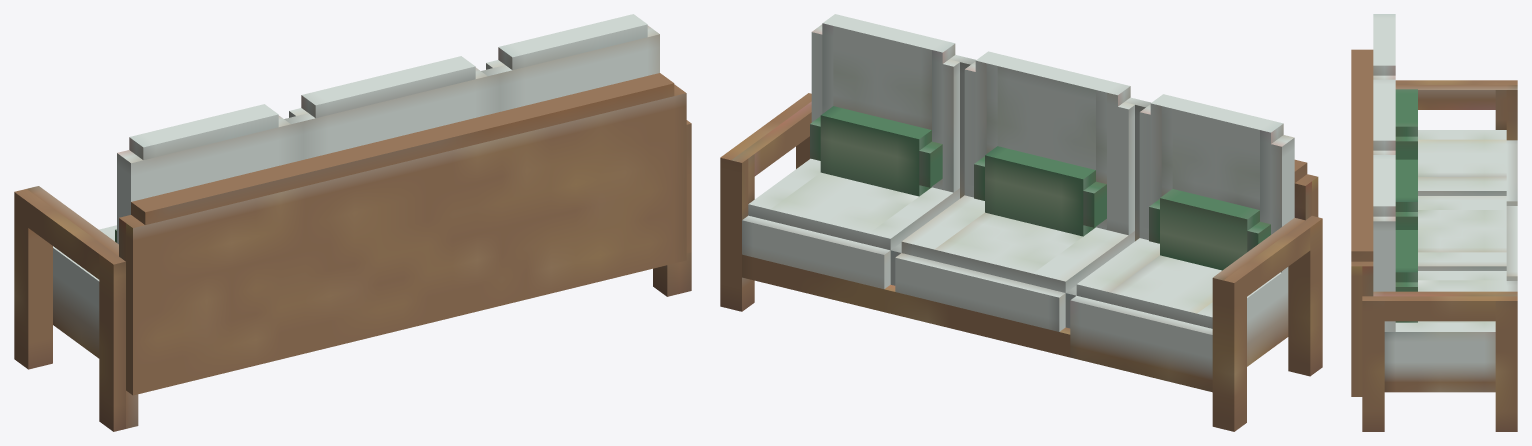
File: ChairWhiteWithGreenPillowWider_00.obj
3 renders of one model, left to right at view 1: azimuth 30°, elevation 25°; view 2: azimuth 150°, elevation 25°; view 3: azimuth 270°, elevation 25°, orthographic. The views are drawn at different scales.
Visible parts, largest first — view 1: ChairWhiteWithGreenPillowWider_00; view 2: ChairWhiteWithGreenPillowWider_00; view 3: ChairWhiteWithGreenPillowWider_00.
Boxes of the visible parts, x1,y1,x2,y2 form: ChairWhiteWithGreenPillowWider_00: (14, 14, 691, 431); ChairWhiteWithGreenPillowWider_00: (720, 14, 1322, 431); ChairWhiteWithGreenPillowWider_00: (1351, 14, 1517, 431).
Size of the model in its own units: 2.35 by 1.05 by 0.75.
